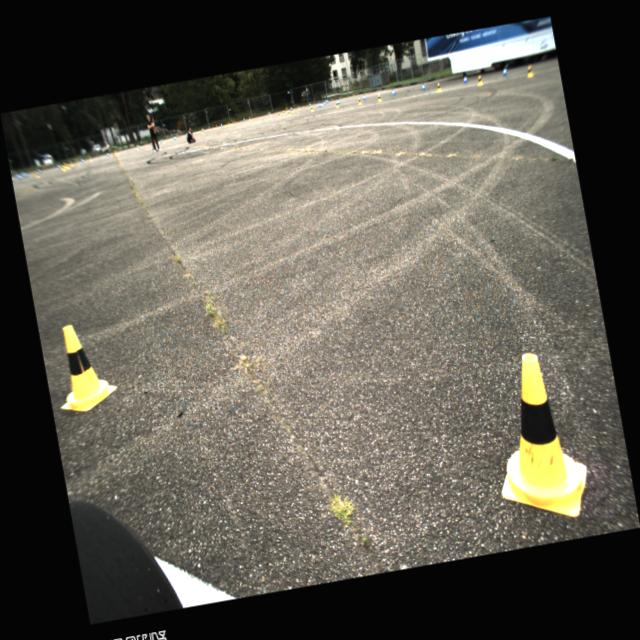blue_cone: (501, 66, 507, 76), (462, 74, 468, 84), (420, 82, 426, 91), (390, 88, 396, 96), (362, 93, 366, 100), (319, 101, 322, 108), (322, 100, 326, 105), (336, 98, 339, 104), (106, 152, 110, 156), (80, 158, 84, 162), (136, 144, 140, 148), (317, 102, 320, 107), (173, 136, 176, 140), (326, 99, 328, 103), (243, 117, 245, 121), (220, 122, 222, 126), (160, 139, 162, 143), (308, 102, 310, 105)
yellow_cone: (477, 345, 595, 529), (47, 318, 120, 416), (524, 64, 534, 78), (476, 74, 484, 86), (434, 82, 442, 93), (376, 92, 382, 102), (357, 96, 362, 105), (335, 101, 339, 108), (310, 105, 314, 112), (112, 149, 116, 155), (134, 144, 138, 150), (290, 107, 294, 112), (161, 138, 164, 144), (268, 110, 271, 116), (287, 110, 290, 116), (297, 104, 300, 110), (88, 156, 92, 160), (200, 128, 203, 133), (228, 120, 230, 126), (282, 110, 284, 116), (216, 124, 218, 129), (248, 115, 250, 120), (278, 112, 280, 116)
